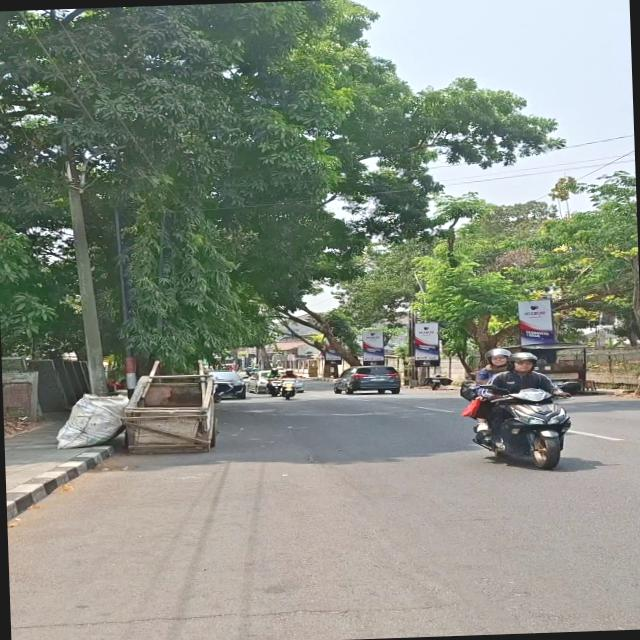WithHelmet: (470, 350, 573, 441), (466, 347, 515, 388), (276, 368, 303, 395), (264, 366, 283, 392), (250, 364, 262, 375)
